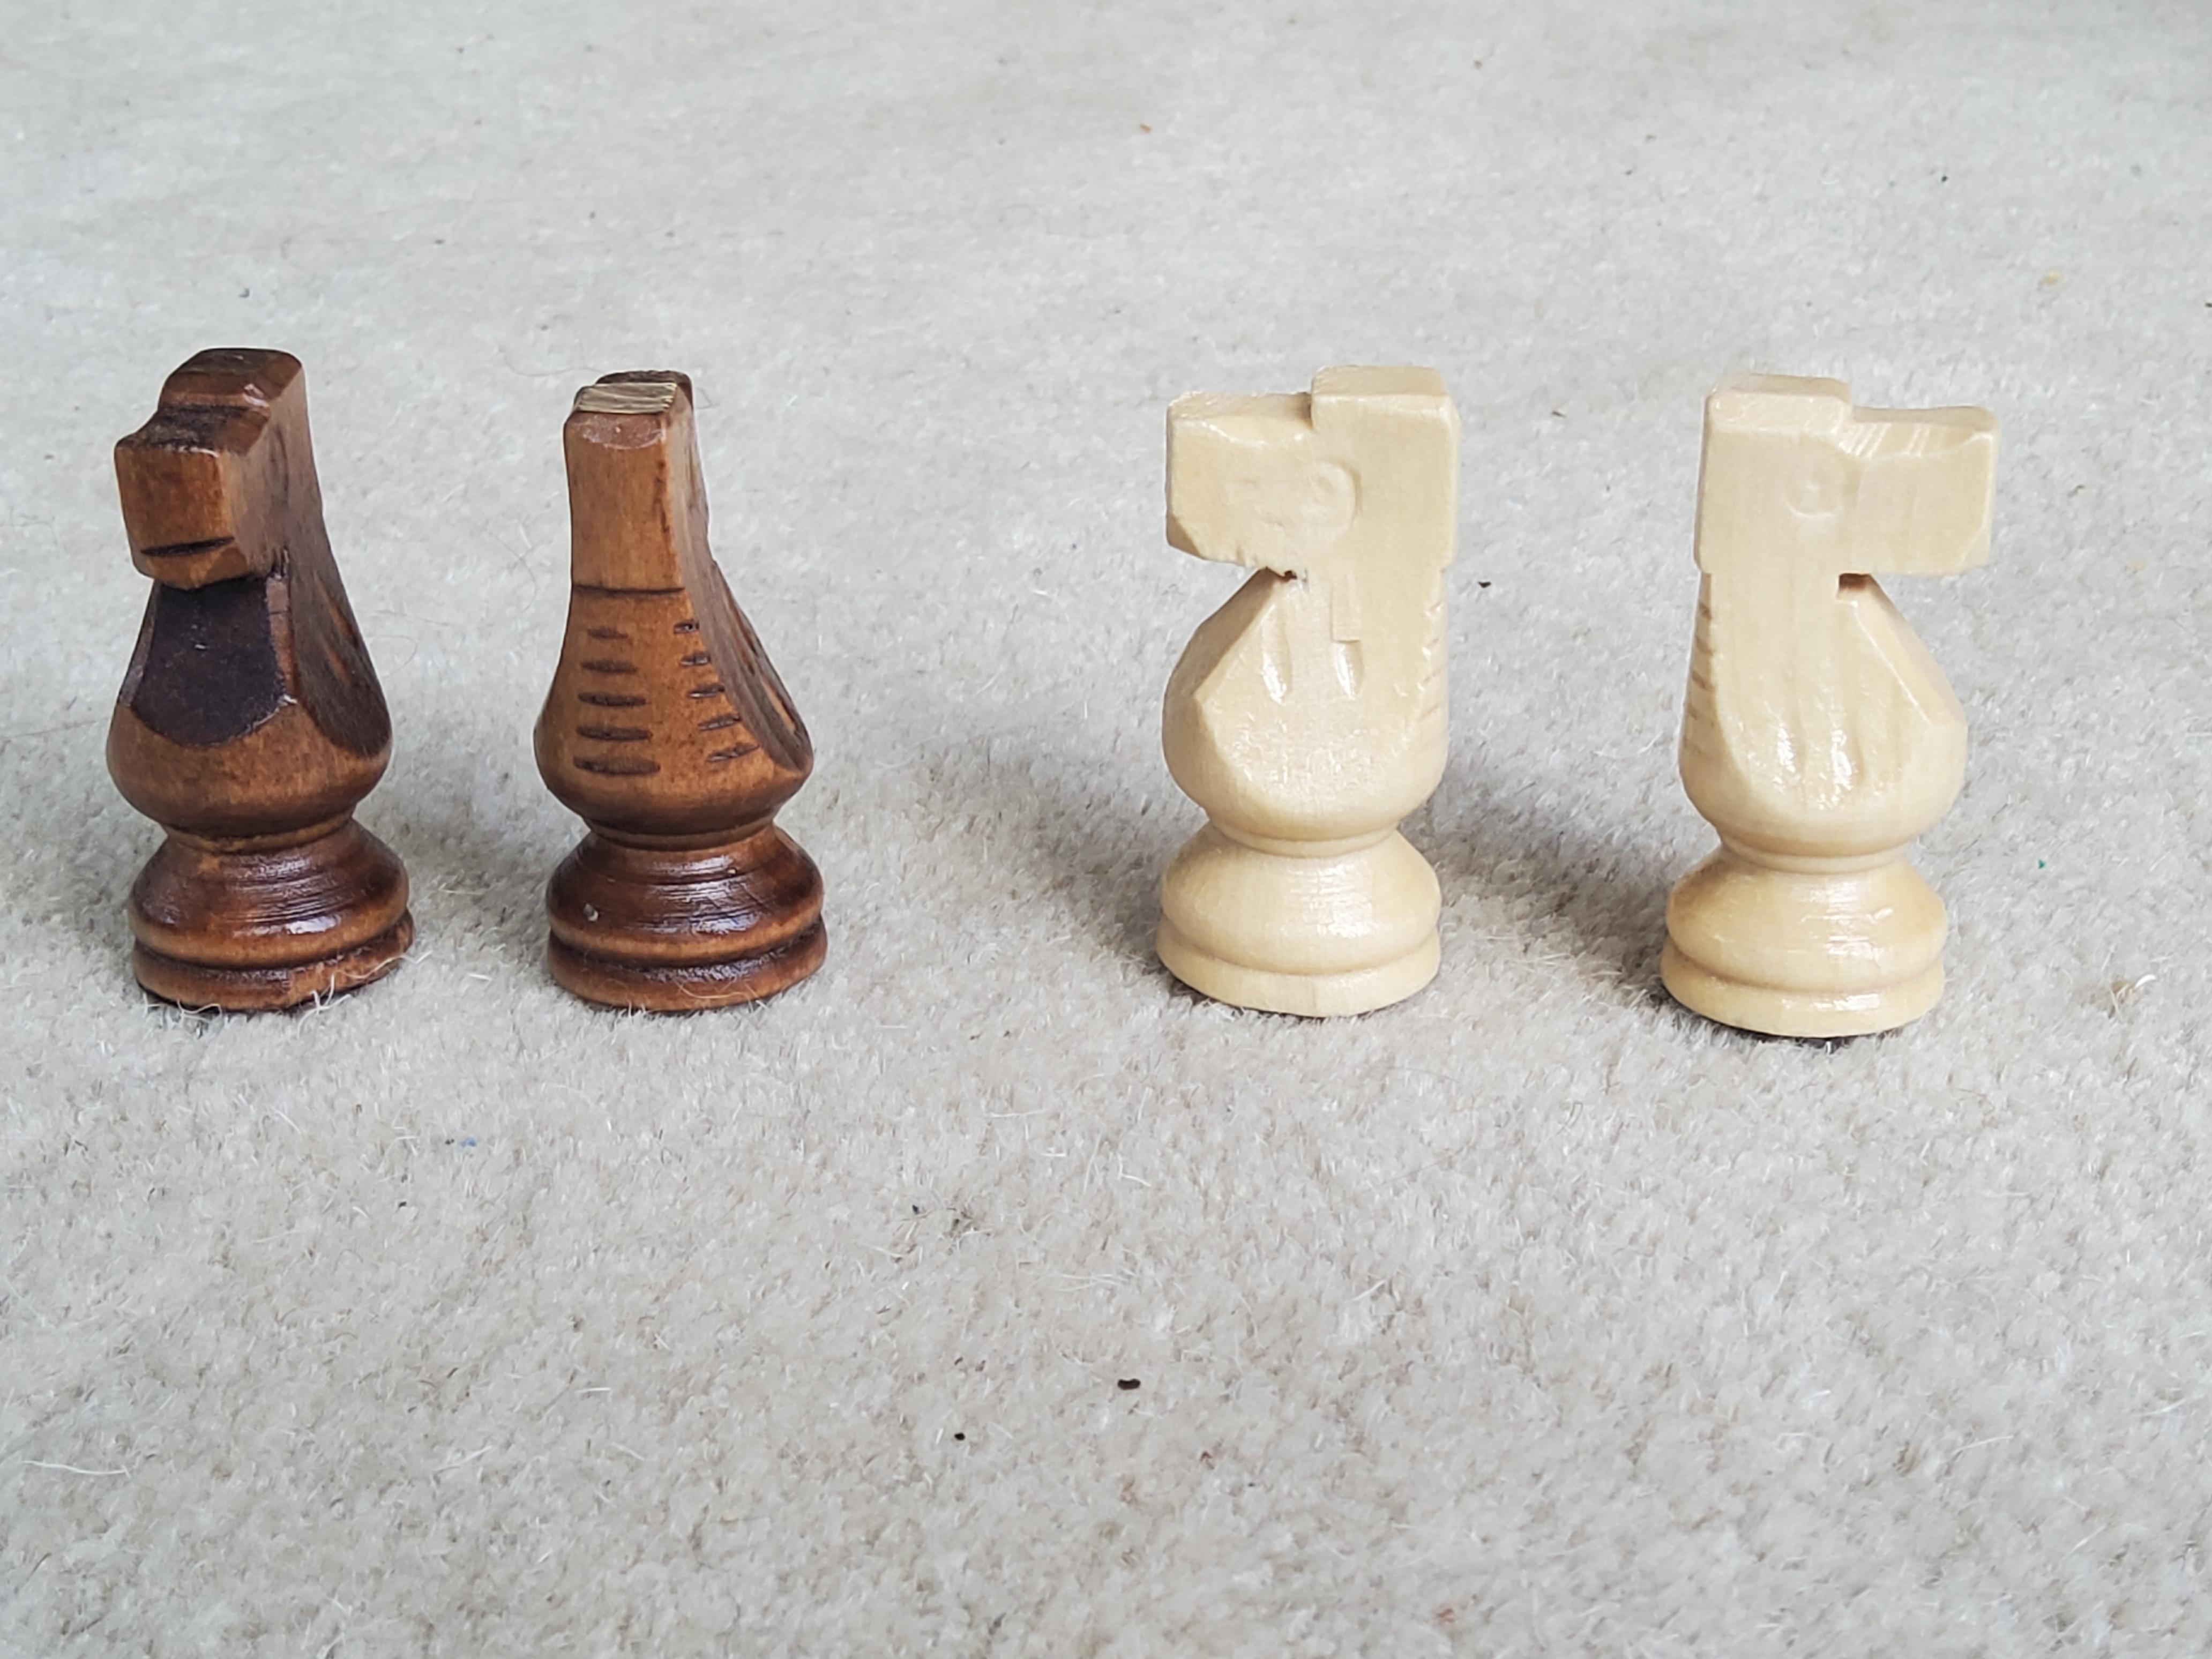schaak: (1658, 373, 1993, 1033), (105, 340, 415, 1012), (536, 354, 833, 1011), (1151, 345, 1442, 1012)
